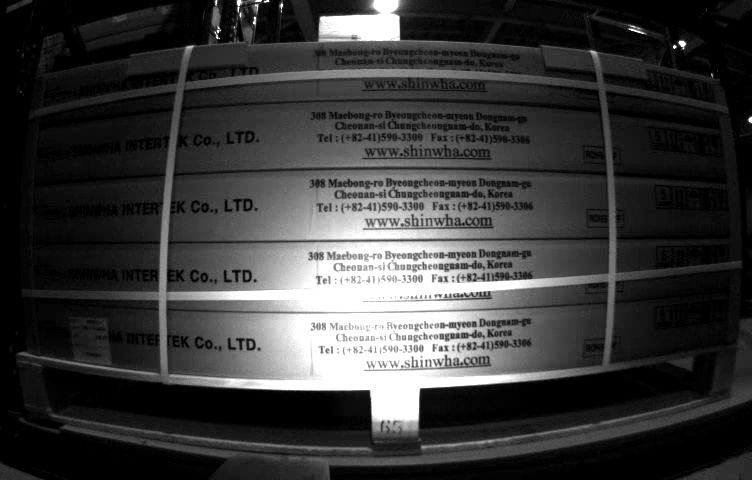True Barcode: (68, 314, 111, 368)
